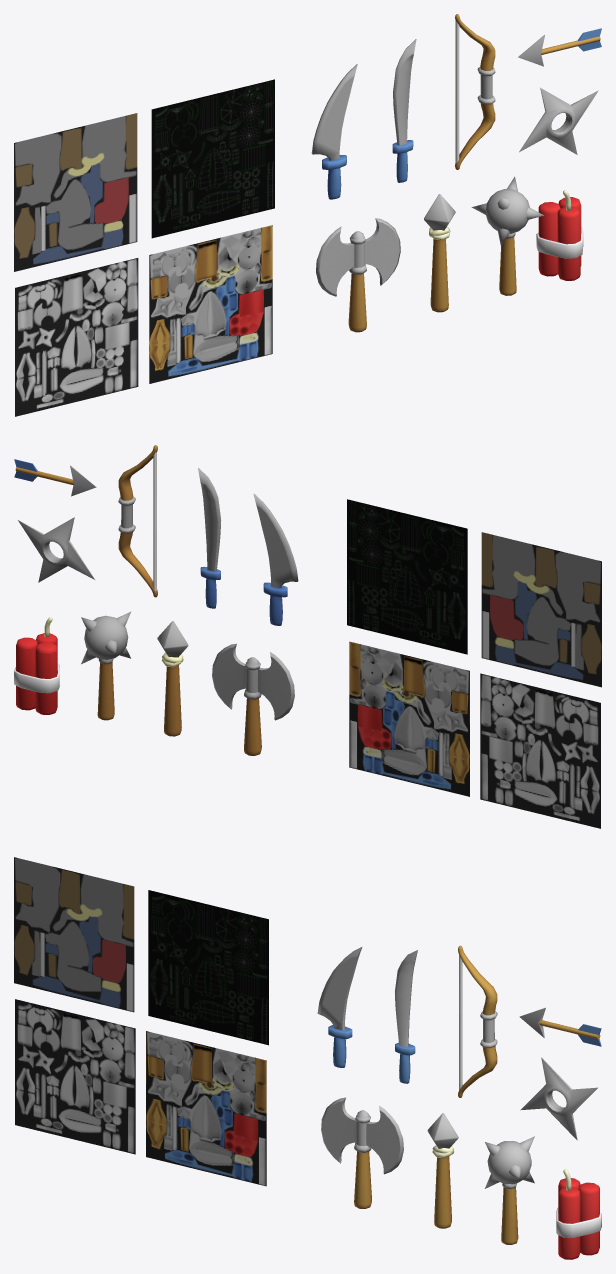
File: Weapons.fbx
3 views of the same model, one above another, from view 1: azimuth 30°, elevation 25°; view 2: azimuth 150°, elevation 25°; view 3: azimuth 330°, elevation 25° (orthographic). The views are drawn at different scales.
Parts seen in each view (by area): view 1: map2, map3, map1, map4, Axe, Dynamite, Mallet, Knife, Arc, Spear, Ninja star, Sword (+1 smaller); view 2: map3, map1, map2, map4, Axe, Dynamite, Mallet, Knife, Arc, Spear, Ninja star, Sword (+1 smaller); view 3: map2, map1, map3, map4, Axe, Dynamite, Mallet, Knife, Arc, Spear, Ninja star, Sword (+1 smaller).
Boxes of the visible parts, x1,y1,x2,y2 form: map2: (15, 258, 138, 416); map3: (151, 79, 274, 238); map1: (149, 225, 272, 383); map4: (14, 113, 137, 271); Axe: (316, 218, 400, 332); Dynamite: (536, 190, 583, 280); Mallet: (471, 176, 543, 295); Knife: (311, 64, 357, 199); Arc: (455, 14, 495, 169); Spear: (424, 194, 455, 312); Ninja star: (519, 87, 598, 154); Sword: (392, 39, 416, 182); map3: (347, 499, 467, 654); map1: (349, 641, 469, 796); map2: (480, 673, 600, 828); map4: (481, 532, 601, 687); Axe: (212, 643, 294, 755); Dynamite: (14, 617, 59, 714); Mallet: (81, 611, 131, 720); Knife: (253, 494, 298, 625); Arc: (118, 445, 157, 597); Spear: (157, 621, 188, 736); Ninja star: (18, 517, 95, 582); Sword: (198, 467, 221, 608); map2: (15, 999, 135, 1154); map1: (146, 1031, 266, 1186); map3: (148, 890, 268, 1045); map4: (14, 857, 134, 1012); Axe: (321, 1097, 403, 1208); Dynamite: (556, 1169, 601, 1259); Mallet: (485, 1136, 534, 1244); Knife: (317, 947, 362, 1067); Arc: (458, 945, 497, 1097); Spear: (427, 1113, 458, 1228); Ninja star: (520, 1057, 597, 1140); Sword: (395, 950, 417, 1083).
Bounding box in the file's own units: 847 × 397 × 73.39.
